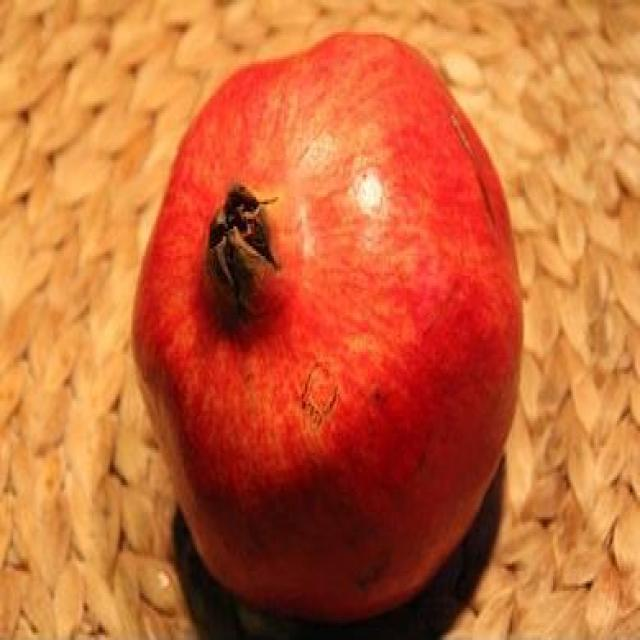Pomegranate: (131, 26, 524, 628)
